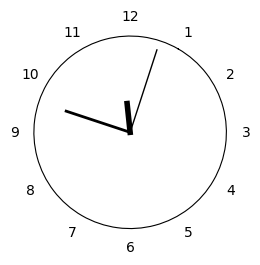12: (122, 9, 139, 22)
circle: (34, 36, 226, 228)
hours: (124, 100, 132, 134)
minutes: (65, 109, 128, 132)
seconds: (132, 49, 158, 127)
